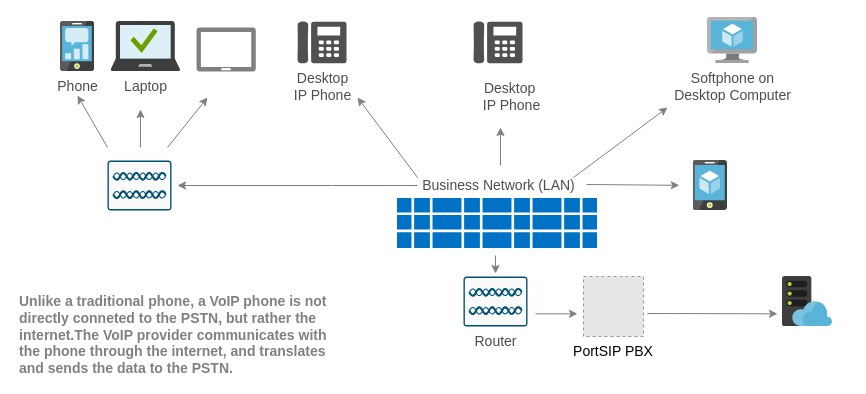
Some shapes in this 866 by 394 pixel diagram are drawn without their labels. Grey dashed boxes stand in for pictures. Each missing label, with the centre of its shape:
"Mobile App" belongs at pixel 709 185.
"SIP Trunk IMS Network" belongs at pixel 807 301.
"Tablet" belongs at pixel 225 49.
"Wireless Router connecting local mobile devices over WIF" belongs at pixel 139 185.
